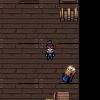Hide: (57, 6, 79, 24)
Obstacle: (44, 88, 71, 100)
Victim: (42, 36, 56, 62)
Win: (60, 63, 78, 83)
